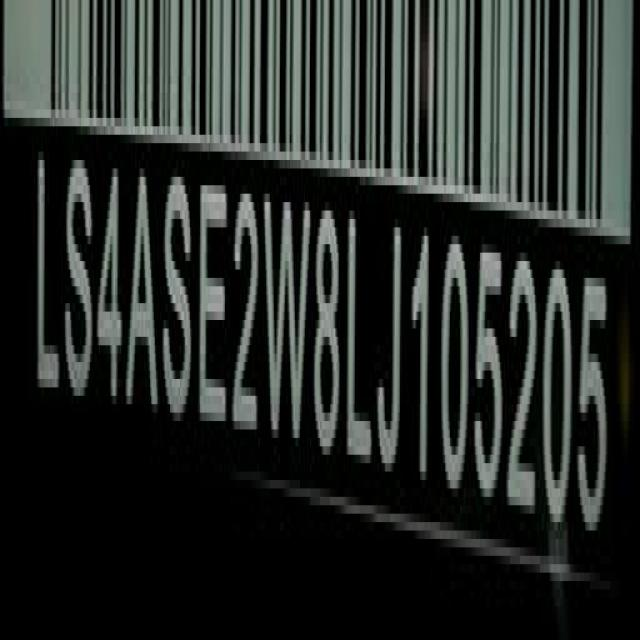0: (542, 256, 573, 530), (439, 243, 469, 493)
1: (409, 221, 431, 496)
2: (507, 240, 538, 518), (230, 178, 260, 440)
4: (96, 153, 125, 405)
5: (578, 250, 610, 530), (472, 240, 505, 505)
8: (314, 203, 342, 474)
A: (125, 162, 159, 406)
E: (199, 168, 230, 434)
J: (378, 222, 406, 489)
L: (346, 212, 376, 484), (36, 153, 61, 412)
S: (163, 166, 196, 430), (66, 140, 94, 406)
W: (260, 184, 312, 471)
